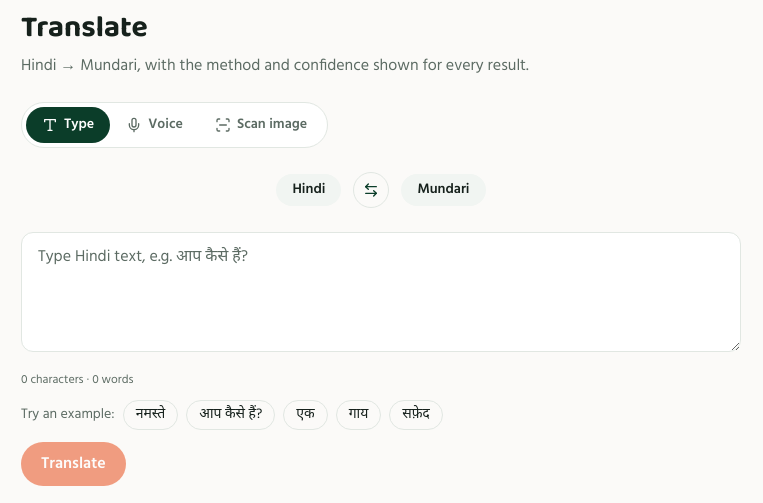
Test case: Translate page › disables the Translate button until text is entered
Expected: the button "Translate" is disabled, [21, 442, 126, 486]
Type "नमस्ते" into the text box with placeholder "Type Hindi text, e.g. आप कैसे हैं?" at {"x": 381, "y": 292}, box [21, 232, 741, 352]
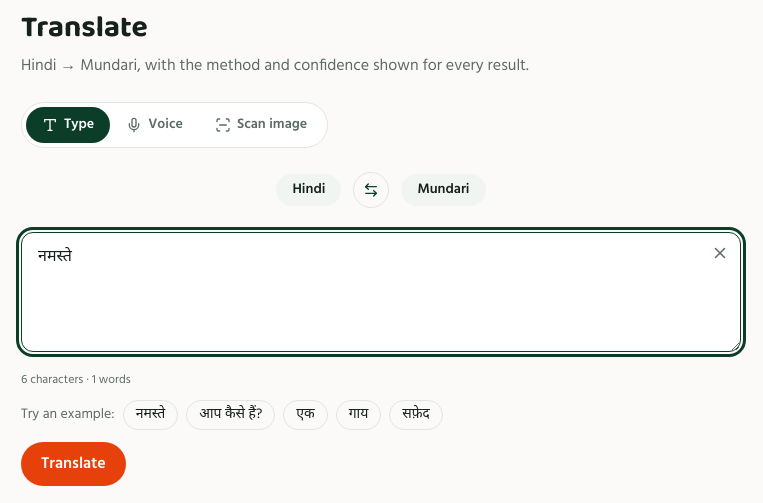
Now the button "Translate" is enabled, box [21, 442, 126, 486]
